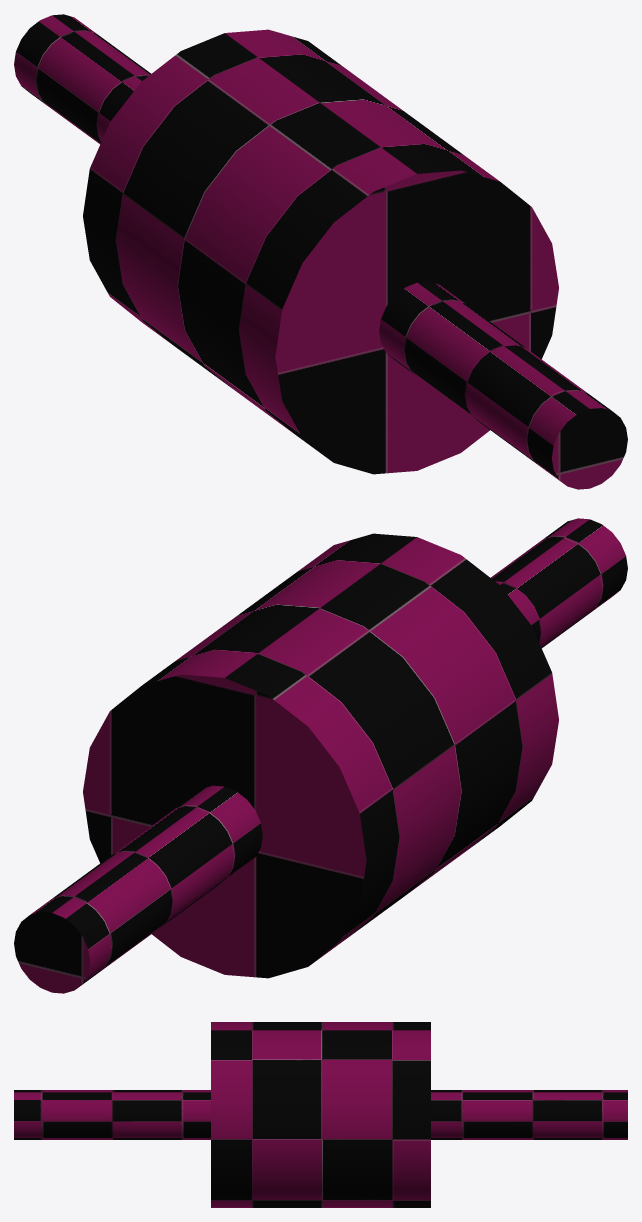
File: Thread_v01.obj
3 views of the same model, one above another, from view 1: azimuth 30°, elevation 25°; view 2: azimuth 150°, elevation 25°; view 3: azimuth 270°, elevation 25° (orthographic). The views are drawn at different scales.
Visible parts, largest first — view 1: polySurface1; view 2: polySurface1; view 3: polySurface1.
Boxes of the visible parts, box(x1,y1,x2,y2) form: polySurface1: box(14, 14, 627, 489); polySurface1: box(14, 518, 627, 993); polySurface1: box(14, 1022, 627, 1207).
Size of the model in its own units: 2.46 by 2.46 by 8.08.
Materials: 1 (1 with a texture image).
